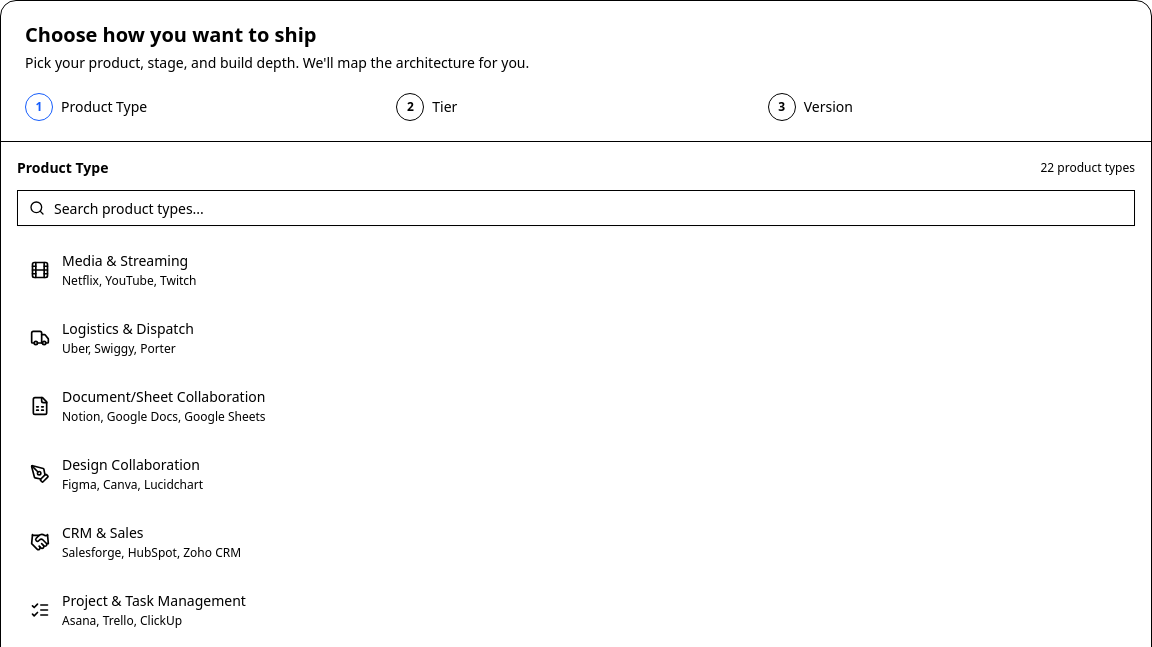
Test: PresetJourney › searches product types and opens the recommended balanced version
The width and height of the screenshot is (1152, 647).
Step 1. Type "chatbot" into the field labelled "Search product types" → (576, 208), box [17,190,1135,226]
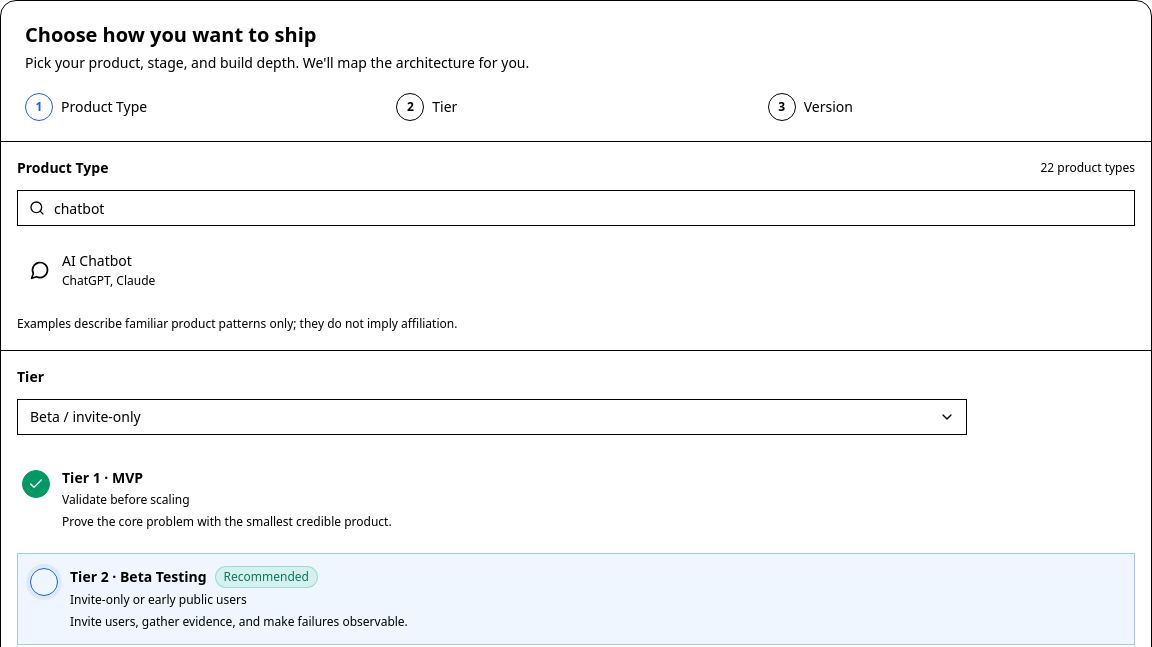
Step 2. Click the button "AI Chatbot ChatGPT, Claude" → (97, 260), box [17,238,1123,302]
(page scrolled)
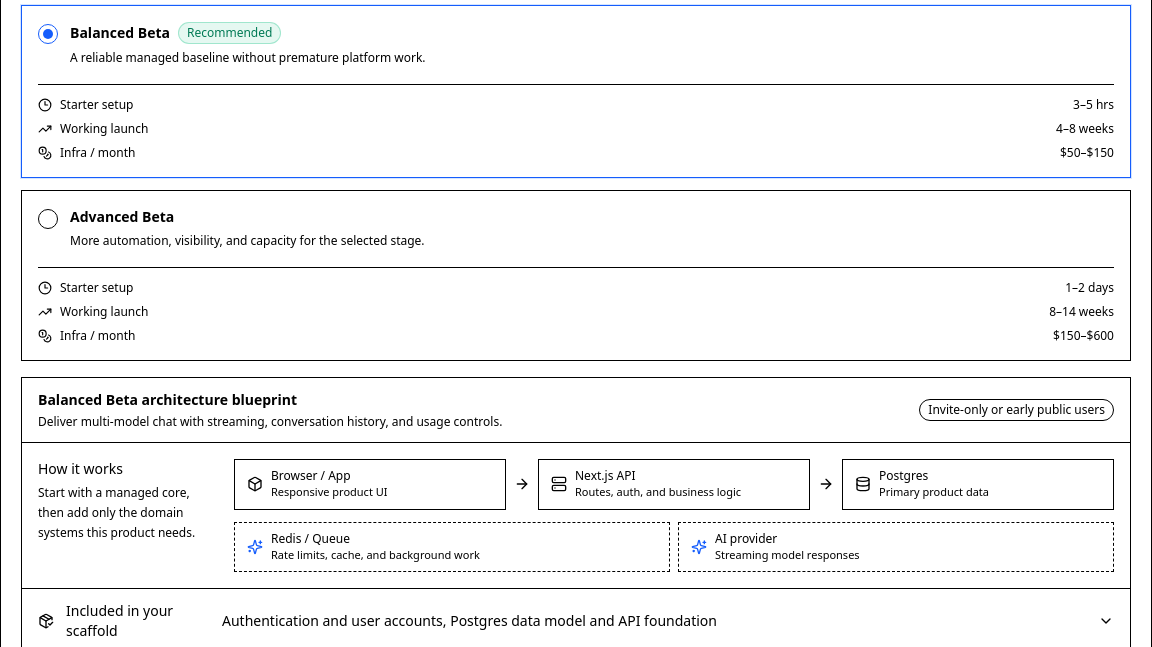
expect the heading "Balanced Beta architecture blueprint" is shown: met, box [38,390,297,409]
